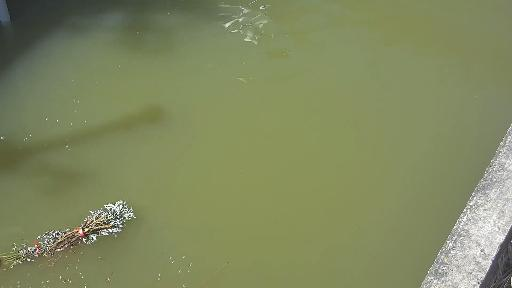twig: (2, 198, 138, 268)
